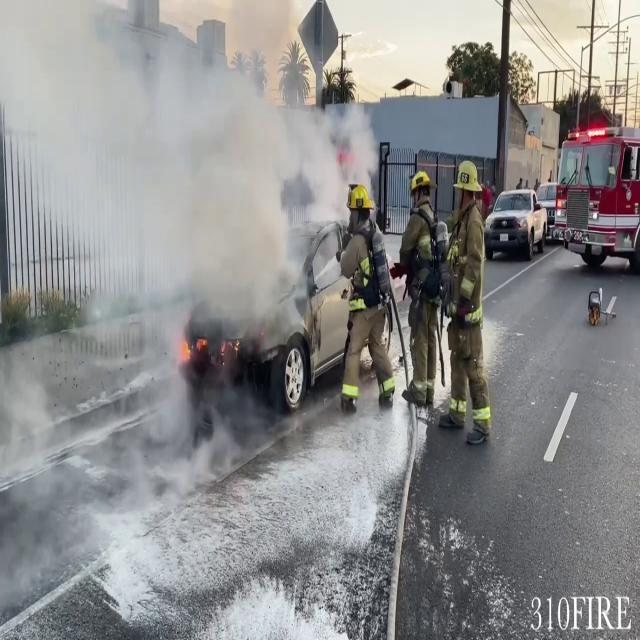Smoke: (63, 2, 376, 386)
